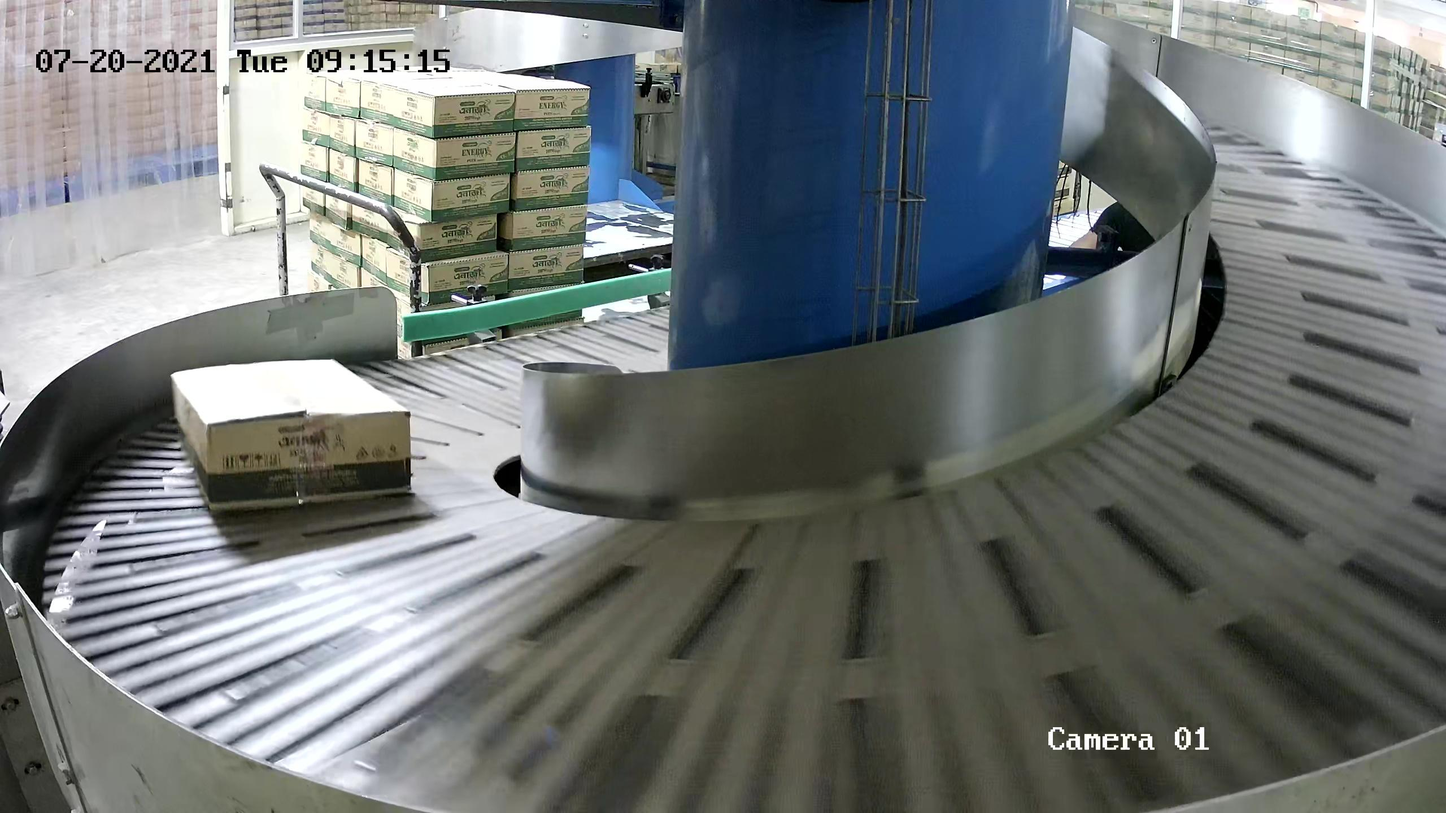Box: (169, 358, 412, 515)
